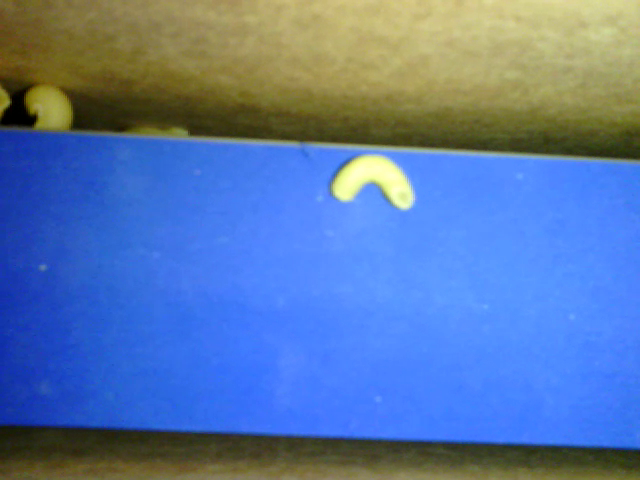elbow: (331, 151, 416, 213)
shell: (22, 84, 76, 130)
